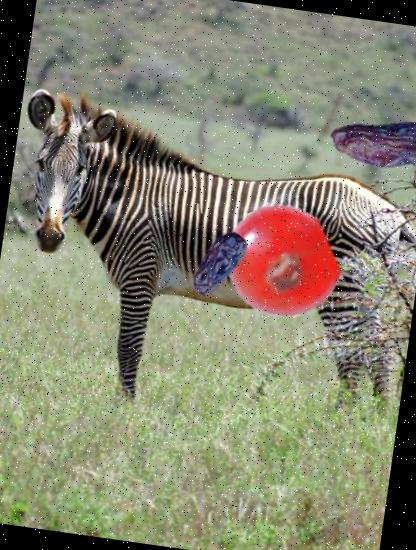Dates: (324, 88, 416, 202), (177, 224, 258, 304)
Redcurrant: (216, 198, 345, 326)
